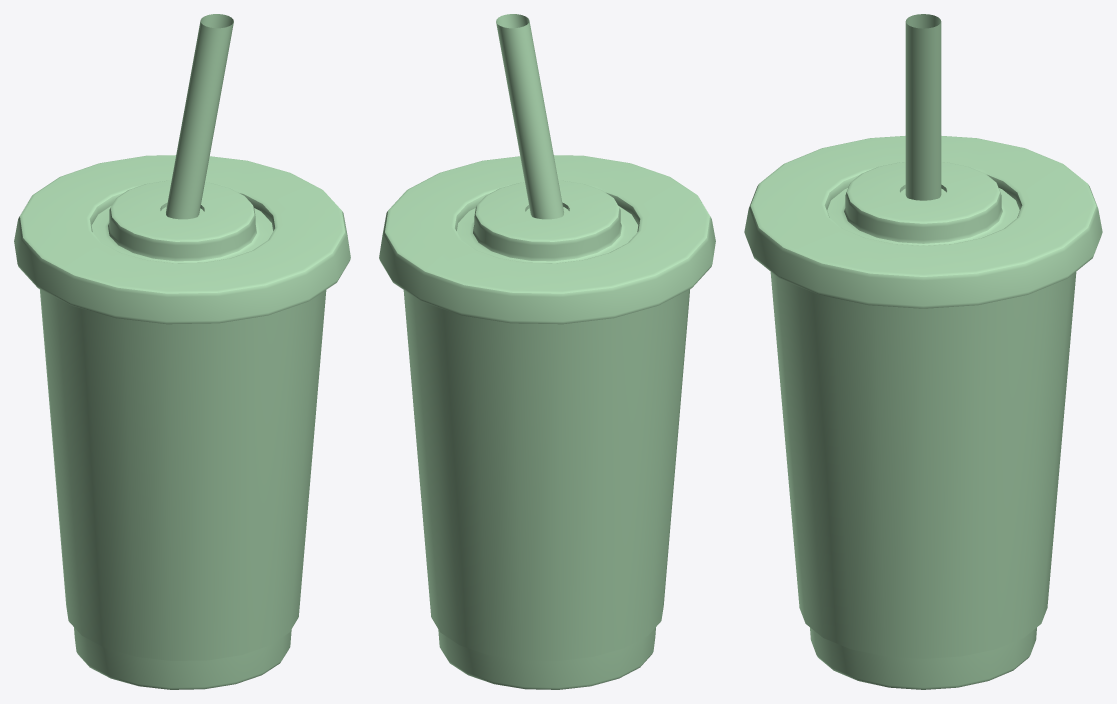
The model's file is Cup.fbx.
3 renders of one model, left to right at view 1: azimuth 30°, elevation 25°; view 2: azimuth 150°, elevation 25°; view 3: azimuth 270°, elevation 25°, orthographic. The views are drawn at different scales.
Parts seen in each view (by area): view 1: CUP; view 2: CUP; view 3: CUP.
Part boxes in pixels (box(x1,y1,x2,y2)): CUP: box(14, 14, 350, 689); CUP: box(379, 14, 715, 689); CUP: box(744, 14, 1102, 689).
Size of the model in its own units: 0.1788 by 0.362 by 0.1835.
